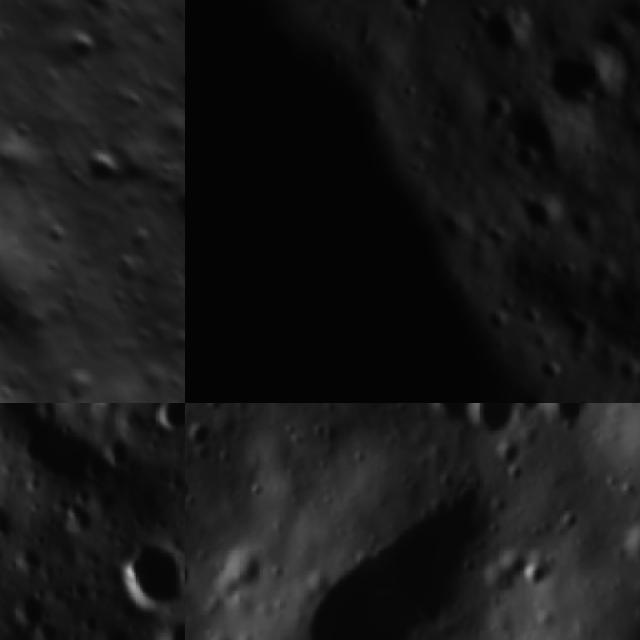crater: (305, 481, 510, 640), (526, 13, 640, 131), (479, 84, 590, 194), (71, 132, 143, 204), (473, 0, 546, 68), (114, 539, 185, 603), (511, 180, 574, 242), (545, 294, 607, 356), (468, 288, 528, 347), (454, 403, 519, 456), (56, 18, 112, 75), (472, 82, 520, 131), (560, 198, 608, 246), (506, 134, 552, 180), (530, 343, 576, 389), (537, 403, 602, 435), (611, 518, 640, 581), (165, 232, 185, 321), (151, 0, 185, 51), (450, 0, 497, 36), (388, 0, 447, 28), (9, 588, 53, 625), (420, 403, 471, 433), (477, 217, 515, 256), (164, 179, 185, 248), (11, 542, 48, 580), (146, 403, 185, 439), (394, 72, 429, 107), (516, 294, 549, 328), (151, 612, 185, 640), (612, 19, 636, 45), (624, 68, 640, 105), (185, 557, 198, 597)
